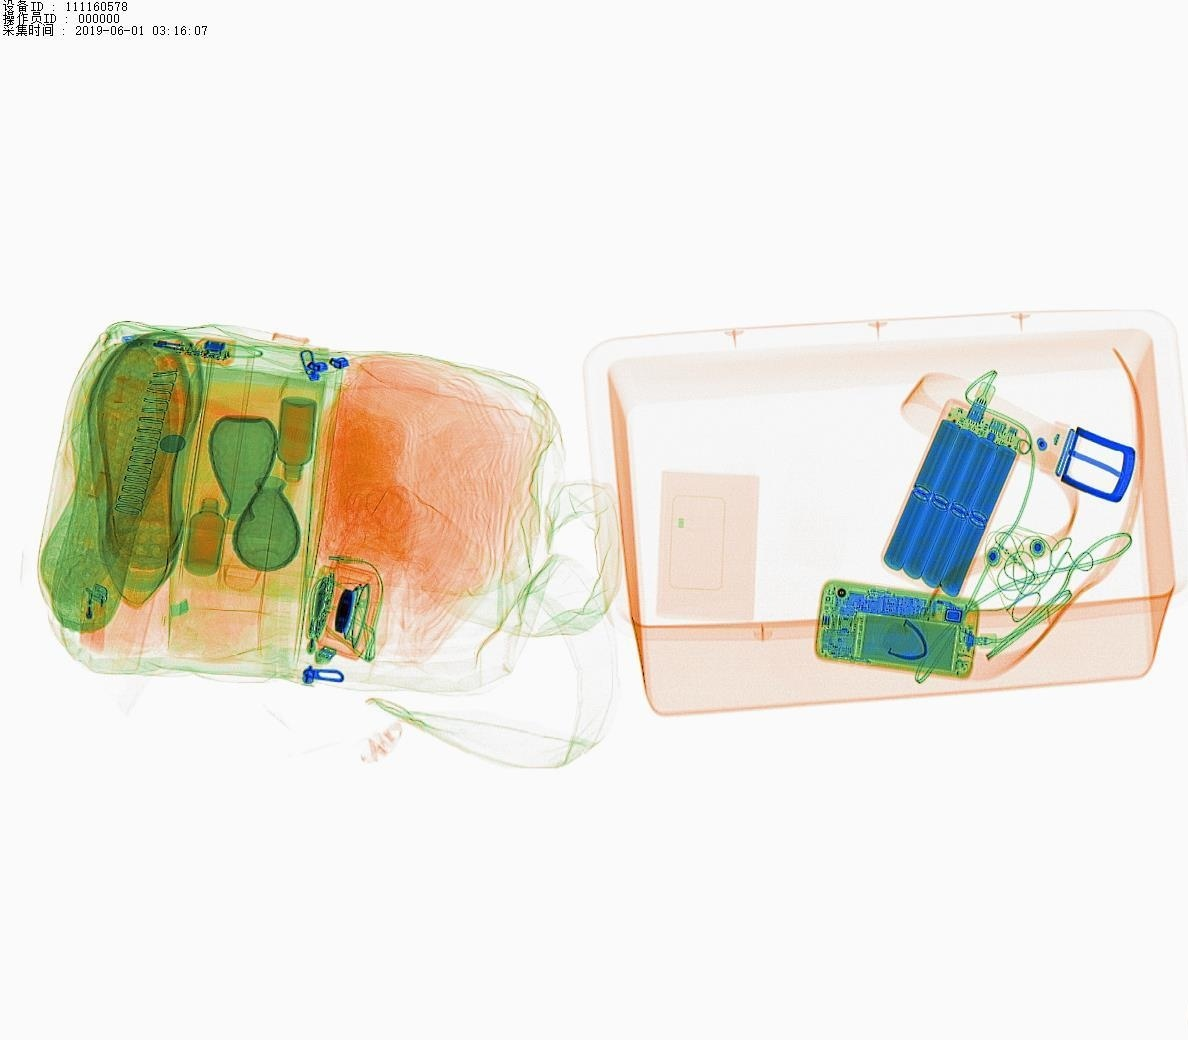NonmetallicFire: (65, 575, 117, 672)
